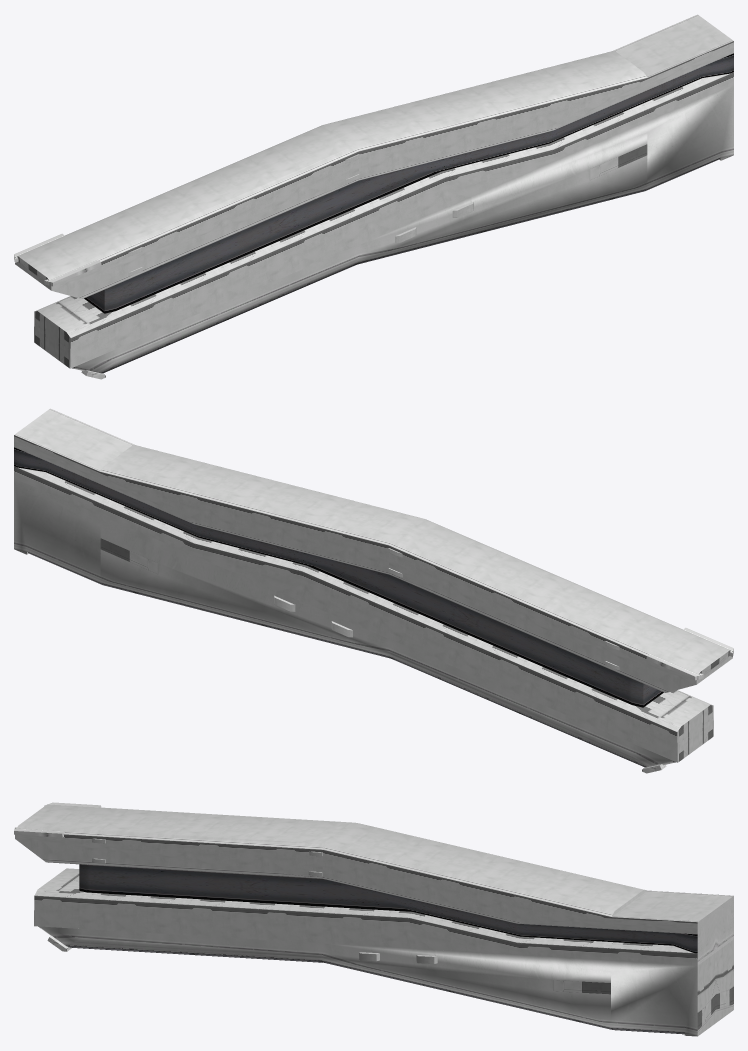
The model's file is DK_LRGDOCKPIECE.FBX.
3 views of the same model, one above another, from view 1: azimuth 30°, elevation 25°; view 2: azimuth 150°, elevation 25°; view 3: azimuth 330°, elevation 25° (orthographic).
Visible parts, largest first — view 1: DK_LRGDOCKPIECE; view 2: DK_LRGDOCKPIECE; view 3: DK_LRGDOCKPIECE.
Part boxes in pixels (left/top/right/bottom): DK_LRGDOCKPIECE: left=14, top=14, right=733, bottom=379; DK_LRGDOCKPIECE: left=14, top=408, right=733, bottom=773; DK_LRGDOCKPIECE: left=14, top=802, right=733, bottom=1036.
Bounding box in the file's own units: 109 × 27.83 × 10.83.
